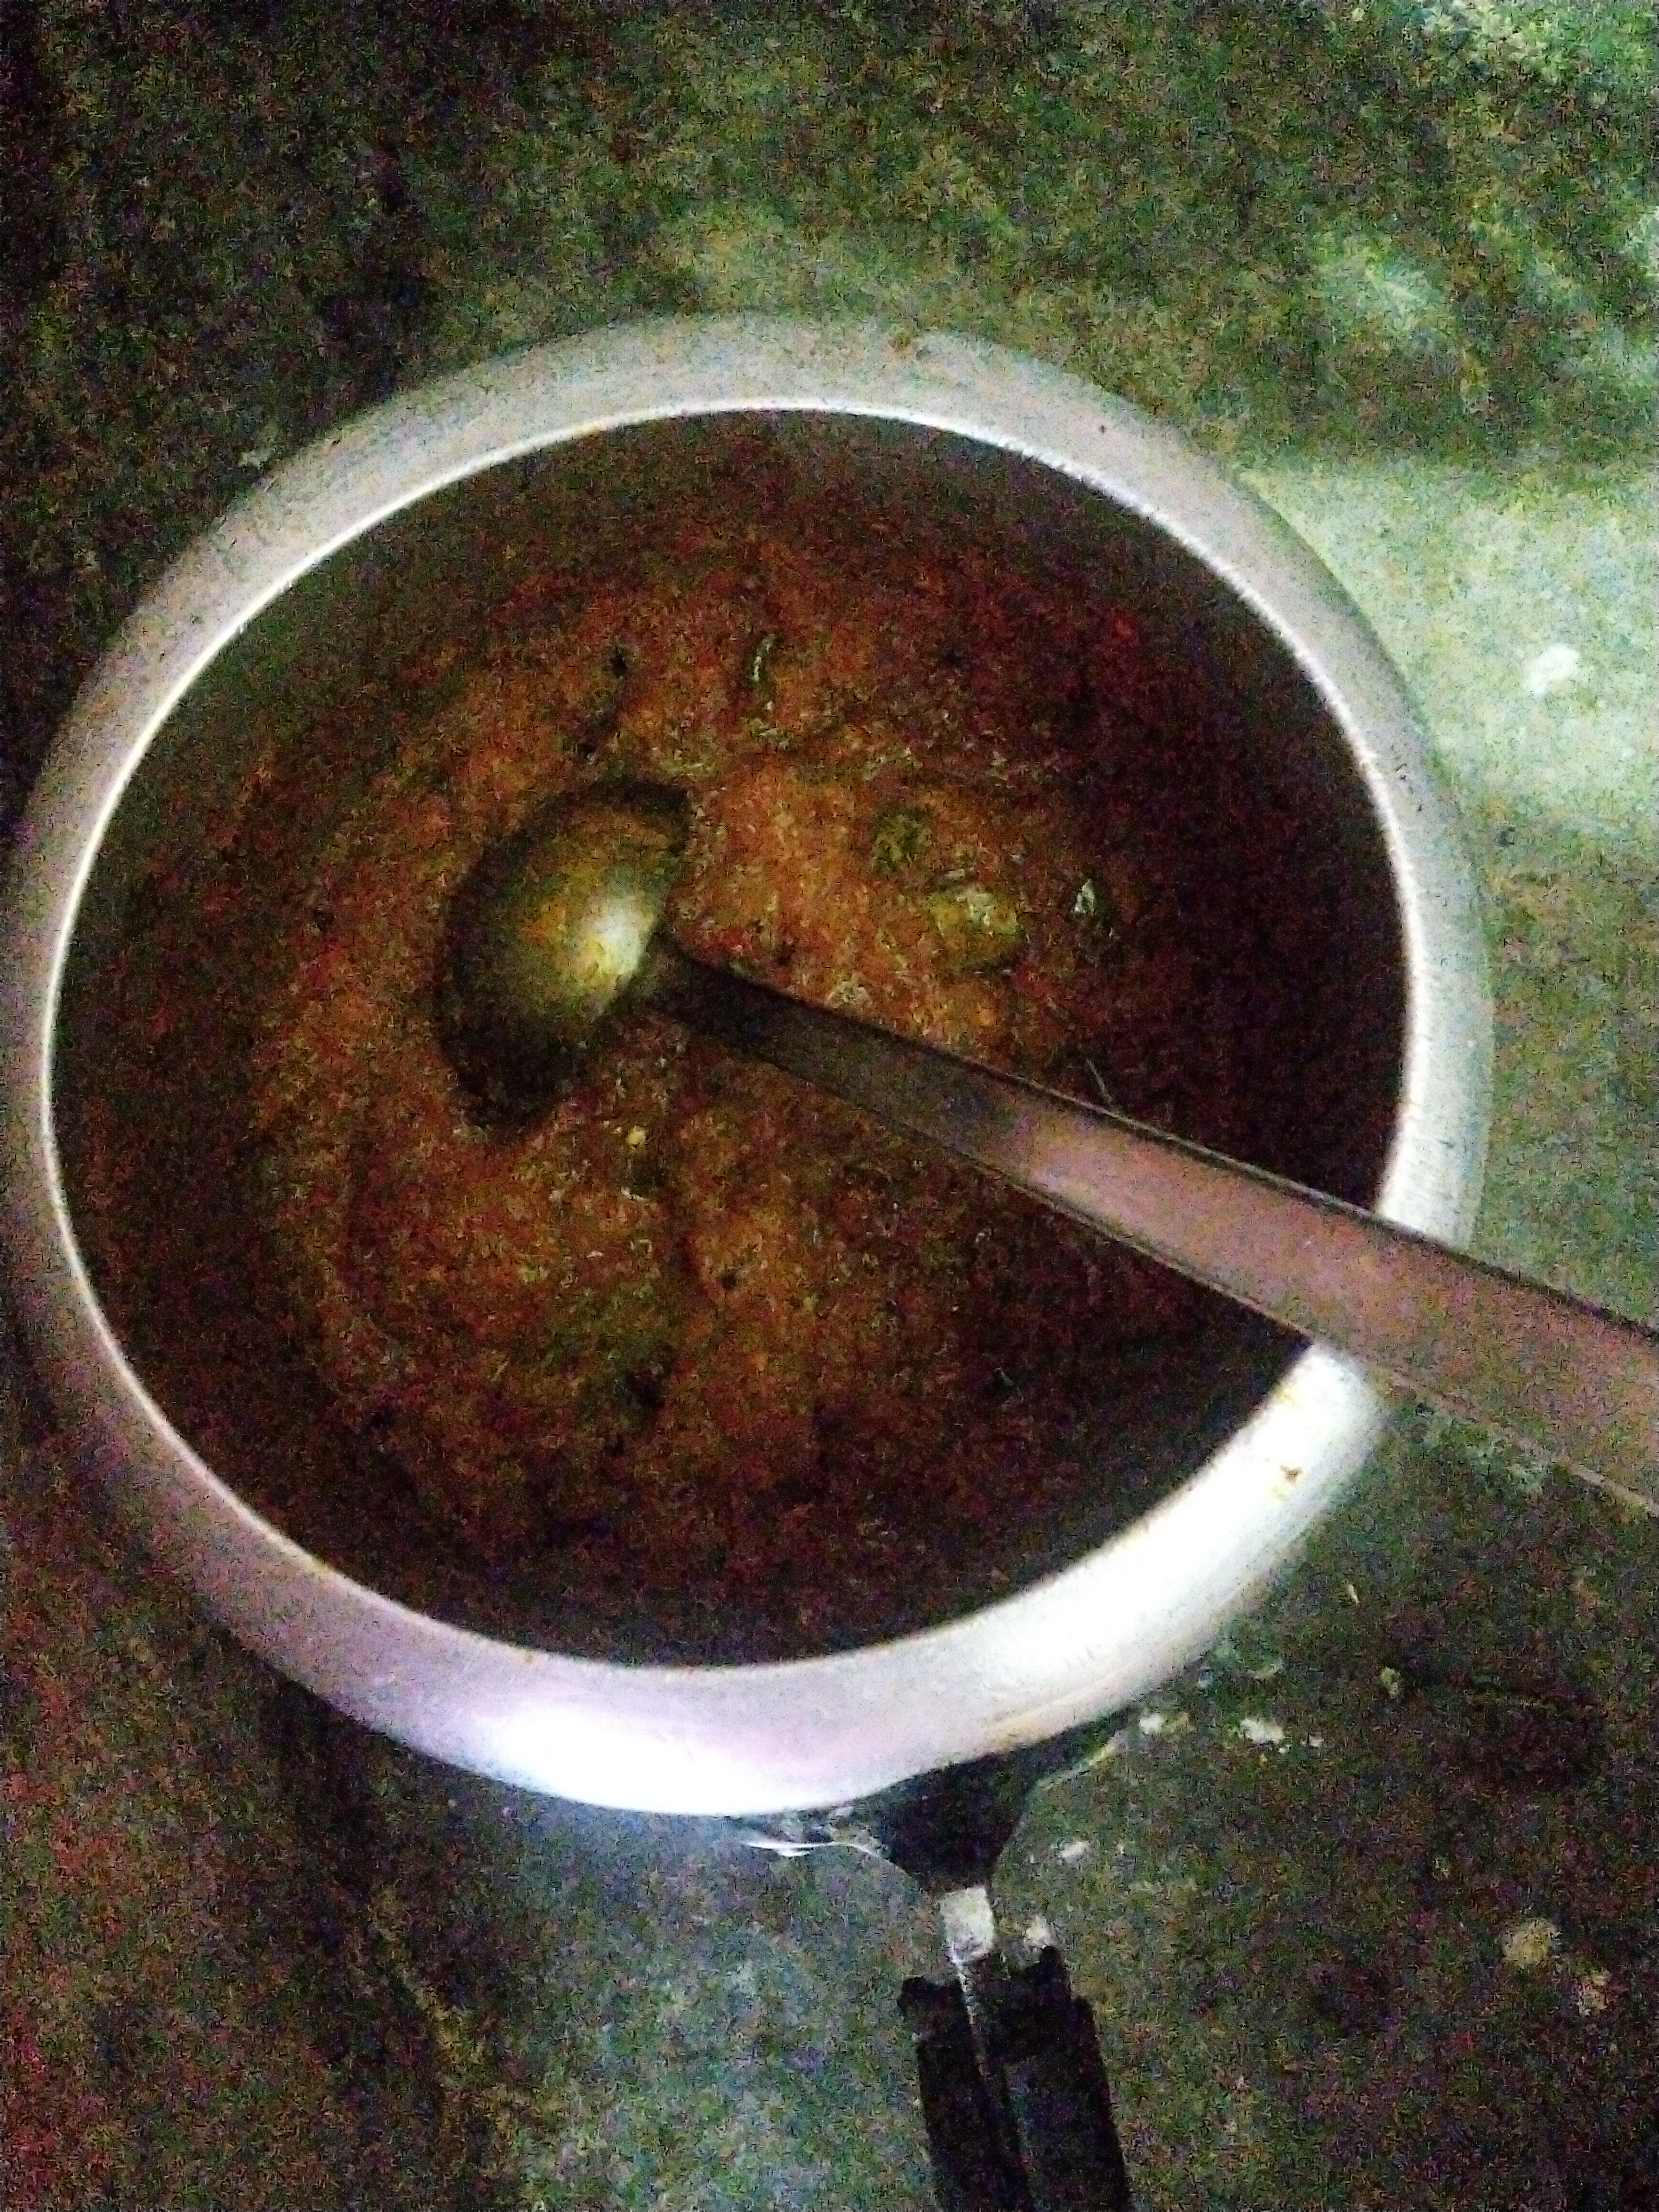food: (125, 460, 1345, 1655)
